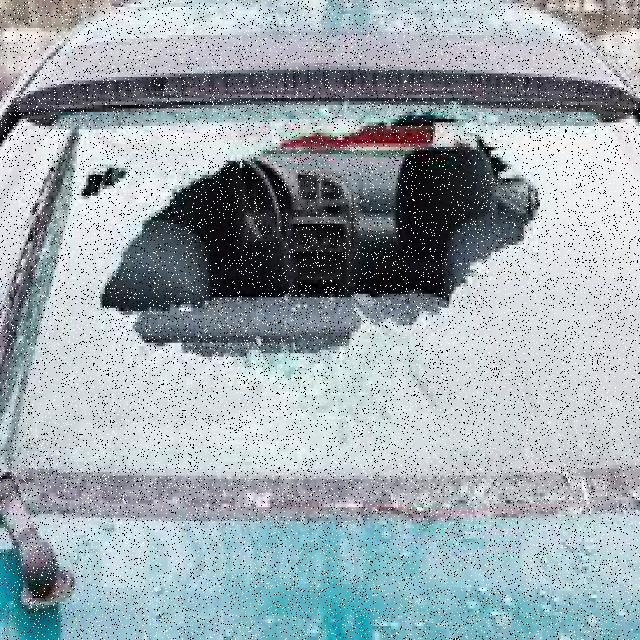Rear-windscreen-Damage: (0, 70, 638, 588)
